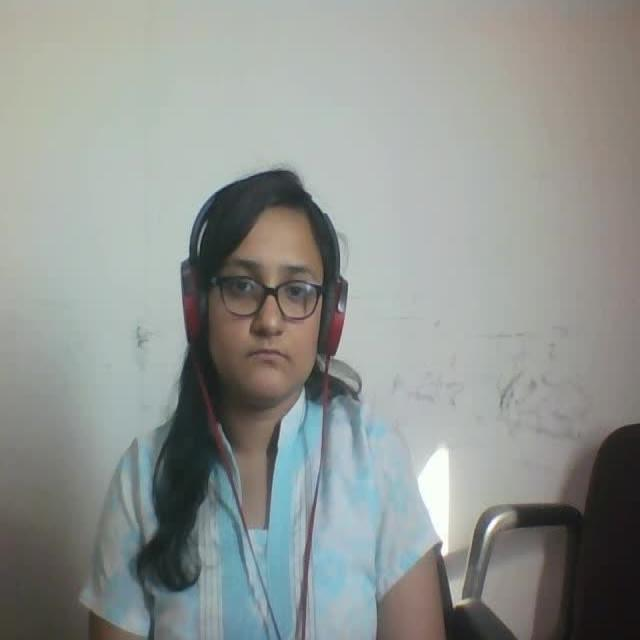Engaged: (184, 155, 358, 431)
